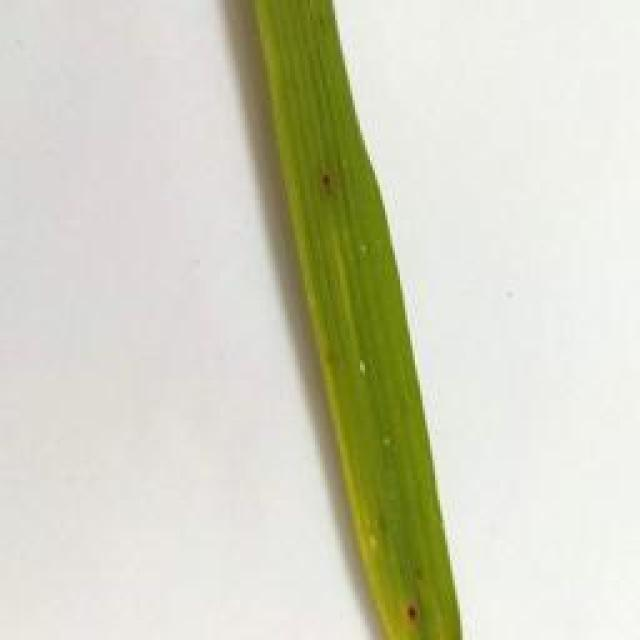Brown_Spot: (393, 593, 429, 629), (314, 158, 342, 204)
